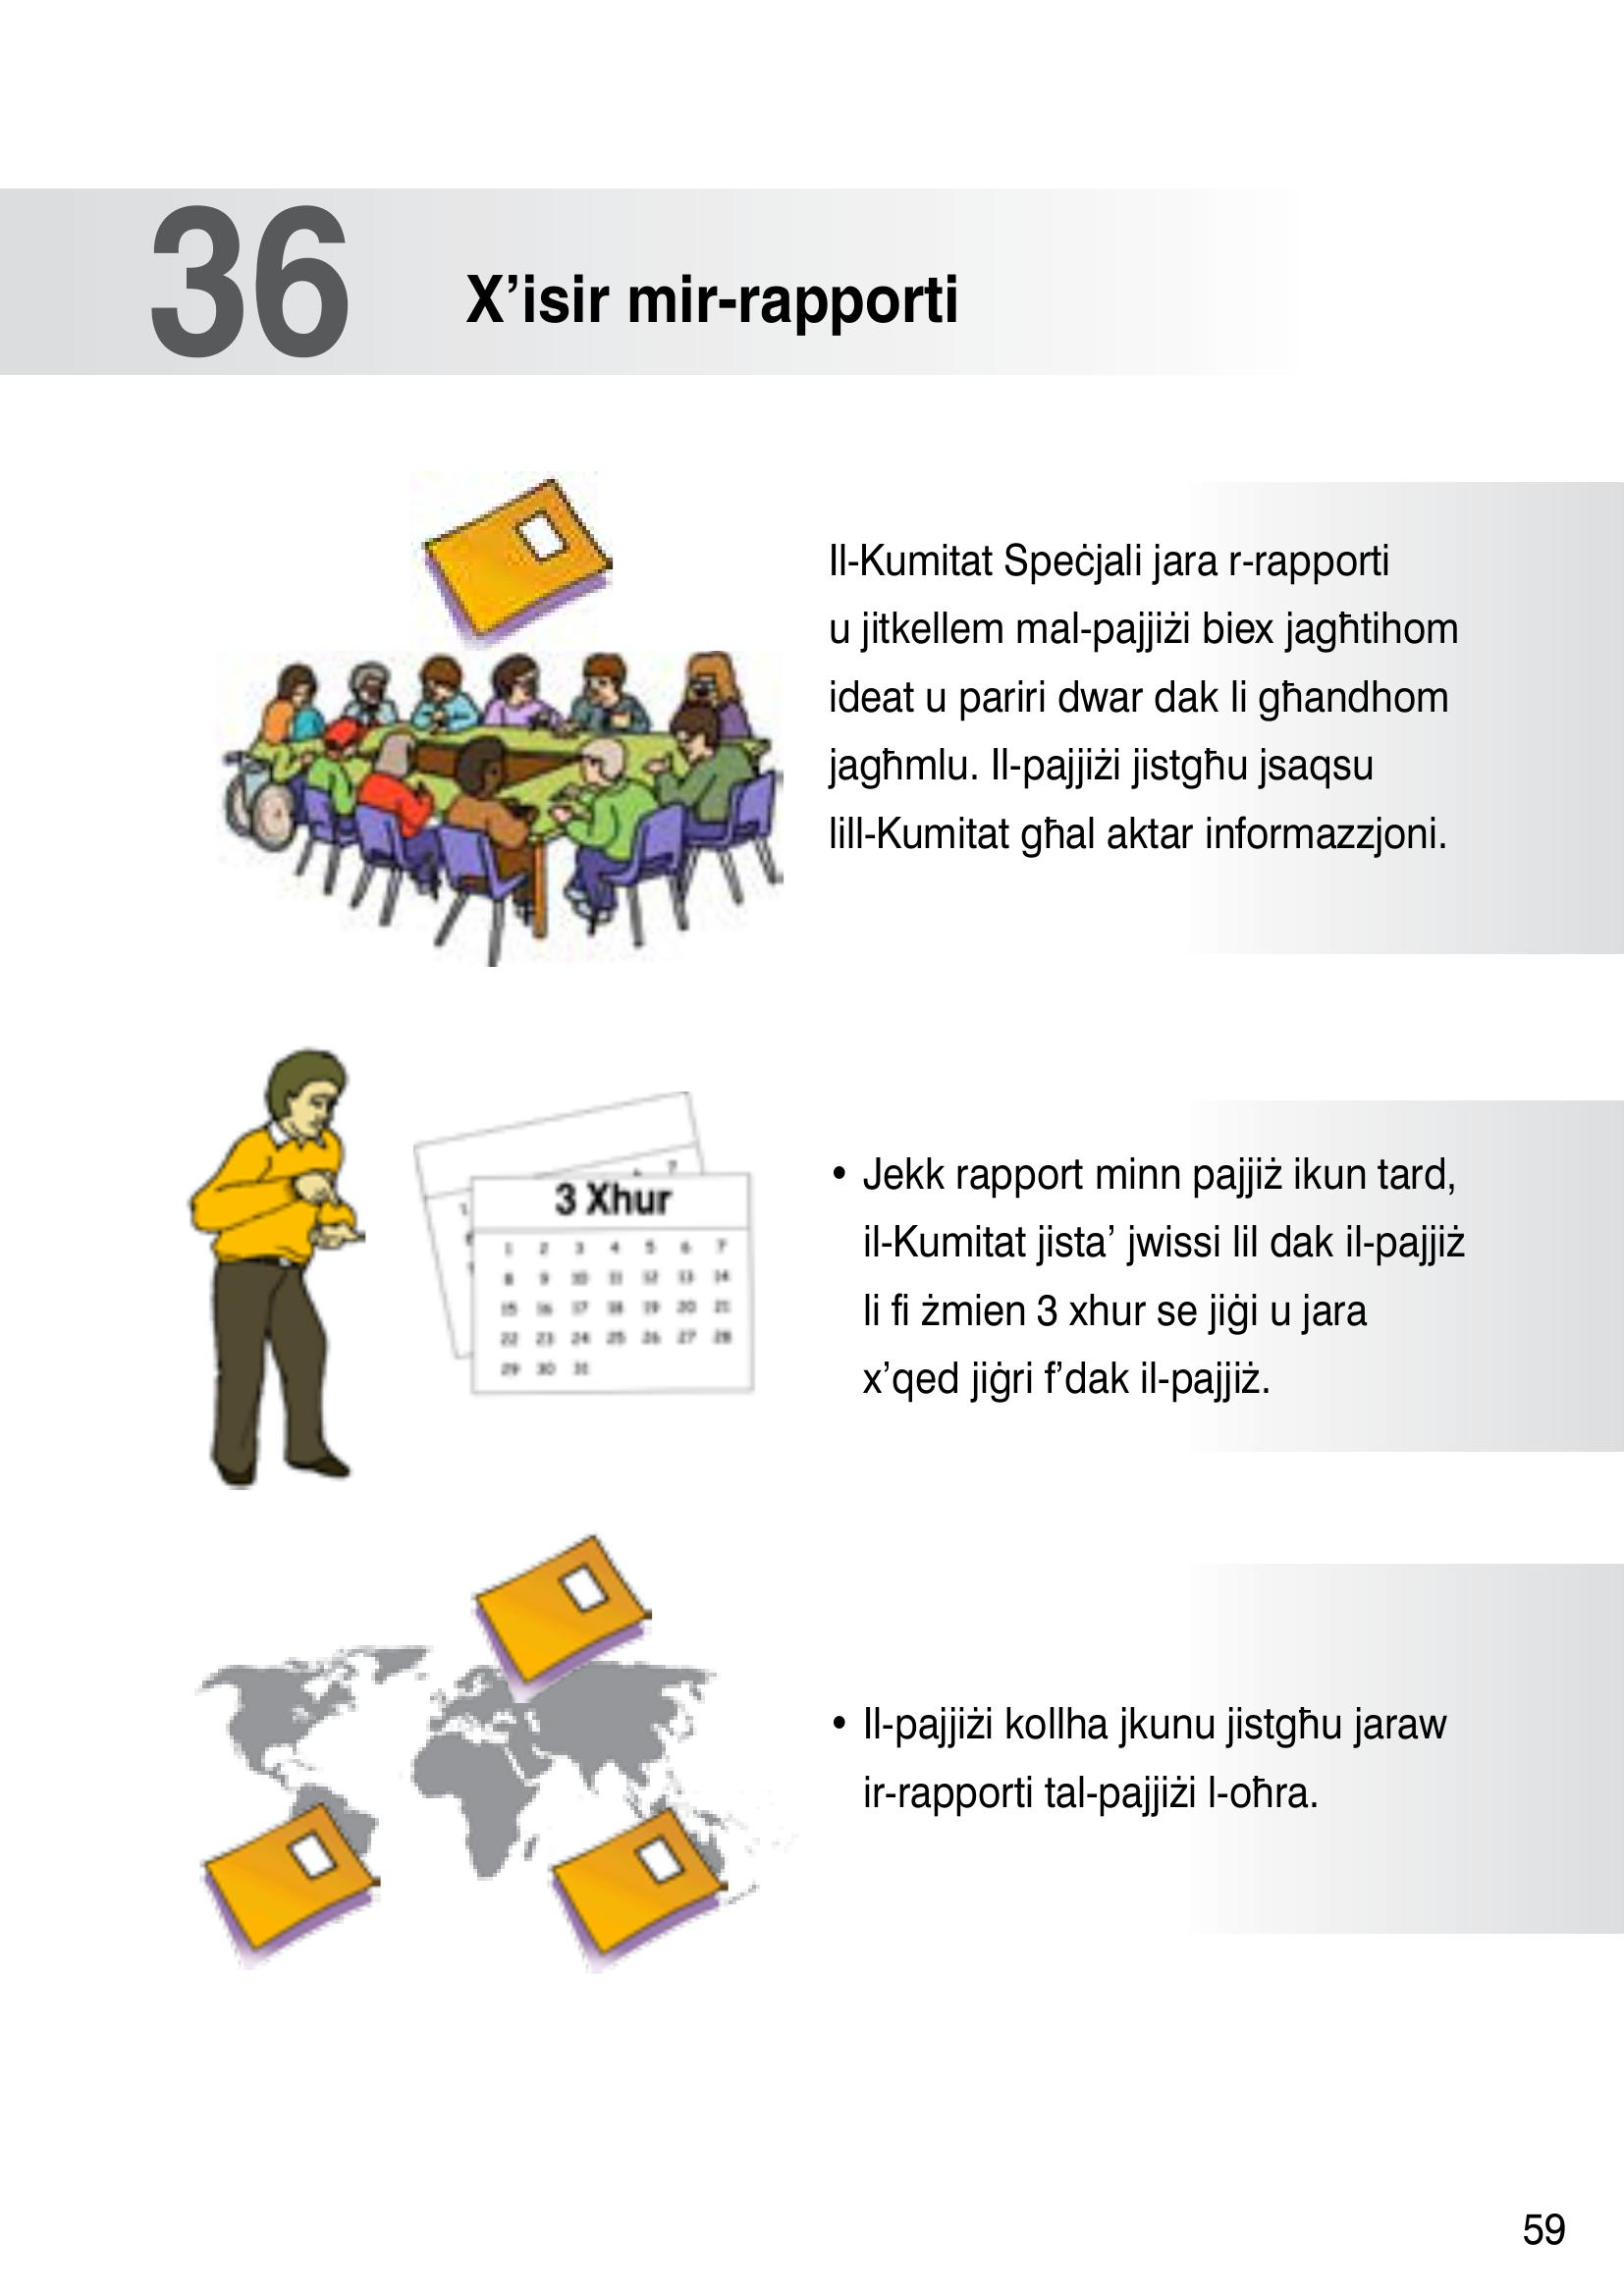text: (803, 495, 1501, 1887), (127, 188, 988, 372)
